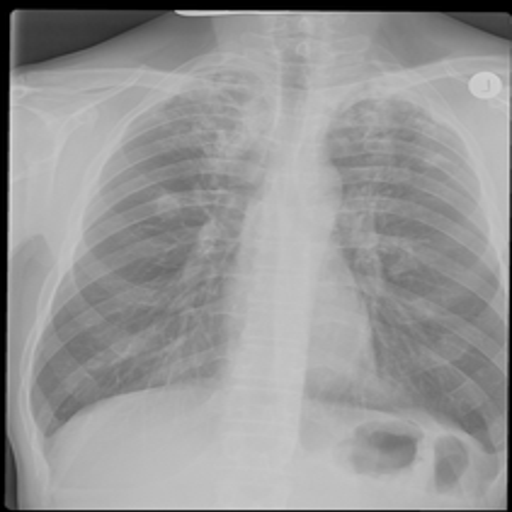TB: (135, 86, 244, 267), (351, 100, 435, 268)
